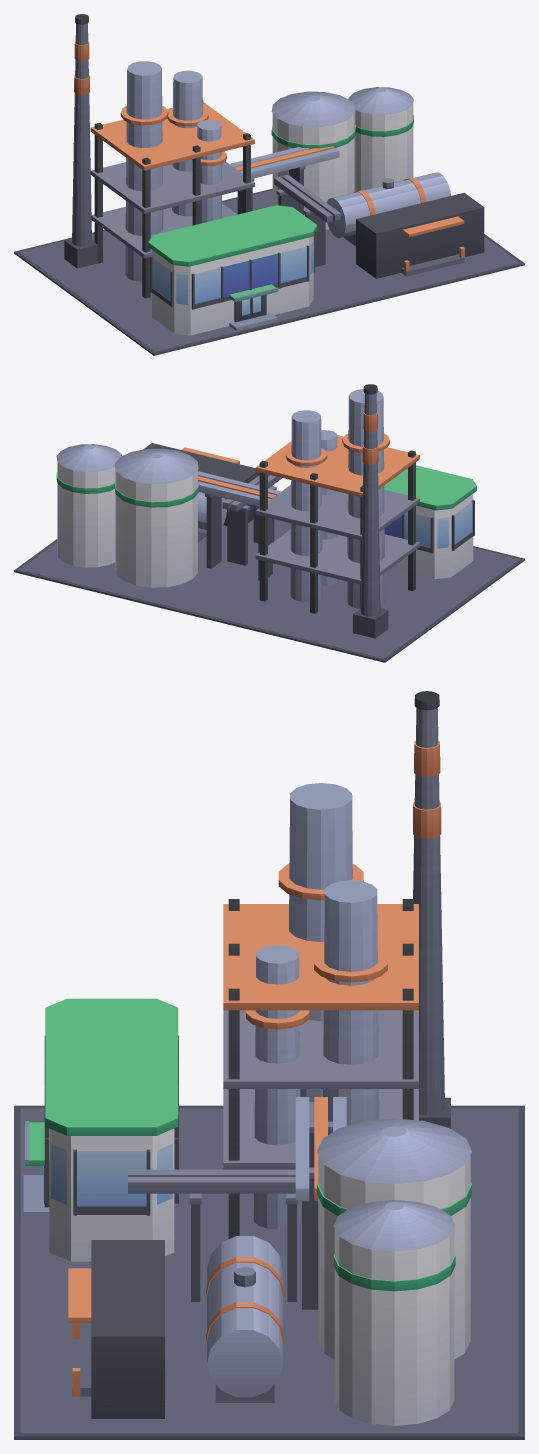
The model's file is ind_refinery_complex_3x2.glb.
3 views of the same model, one above another, from view 1: azimuth 30°, elevation 25°; view 2: azimuth 150°, elevation 25°; view 3: azimuth 270°, elevation 25° (orthographic). The views are drawn at different scales.
Visible parts, largest first — view 1: ind_refinery_complex_3x2; view 2: ind_refinery_complex_3x2; view 3: ind_refinery_complex_3x2.
Part boxes in pixels (box(x1,y1,x2,y2)): ind_refinery_complex_3x2: box(14, 14, 524, 355); ind_refinery_complex_3x2: box(14, 384, 524, 662); ind_refinery_complex_3x2: box(14, 691, 524, 1439).
Bounding box in the file's own units: 5.76 × 3.65 × 3.76.
1 material, 1 textured.
